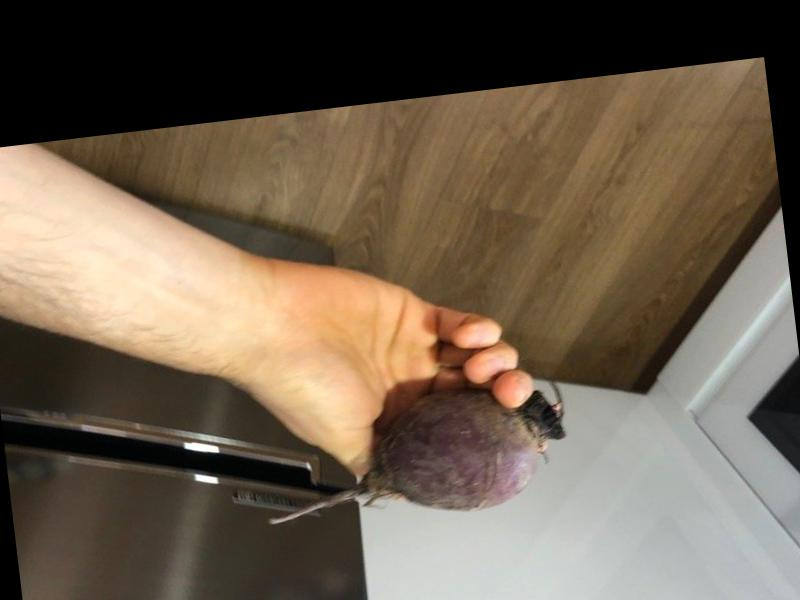Beet: (257, 377, 576, 533)
